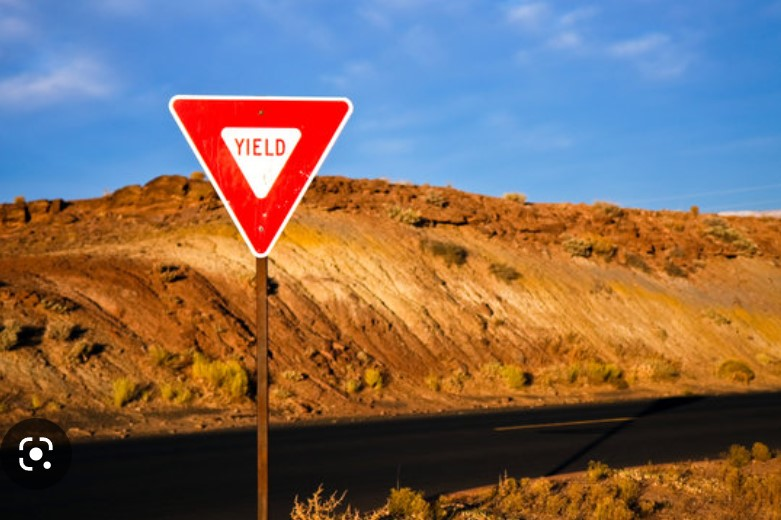Yeild: (168, 92, 355, 261)
